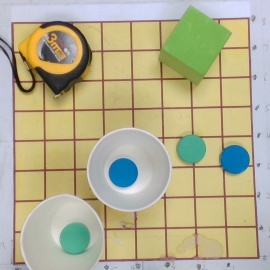blue: (221, 145, 250, 175)
cup_blue: (85, 126, 174, 213)
cup_green: (20, 190, 118, 267)
green: (177, 135, 208, 163)
